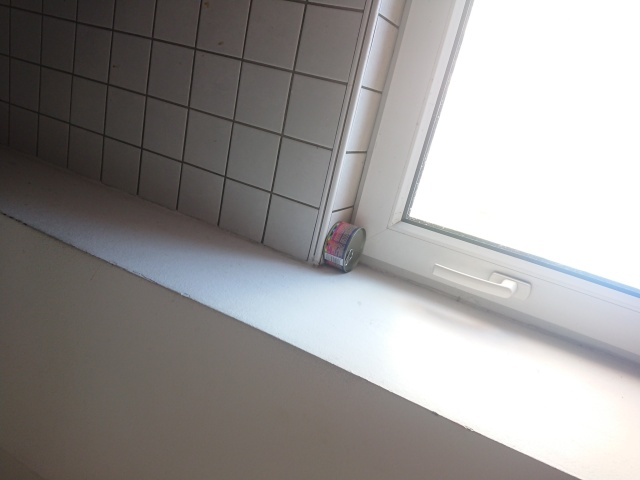Giana Tuna Salad Mexico 185g: (321, 218, 368, 274)
